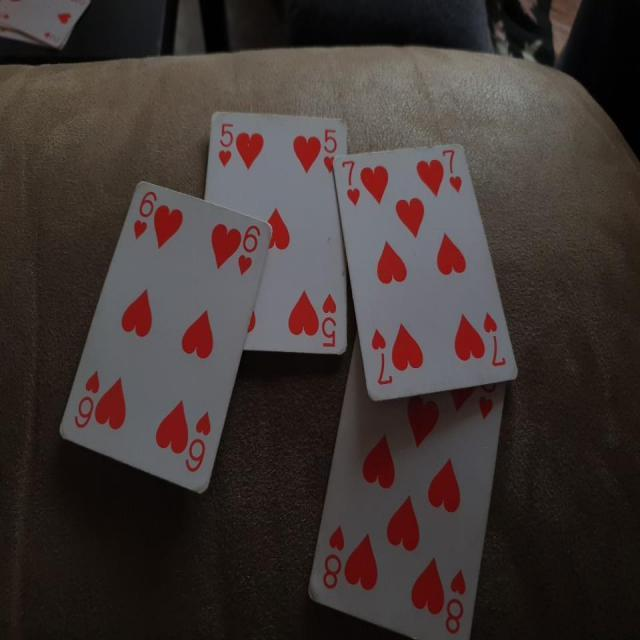5 of hearts: (206, 103, 356, 368)
6 of hearts: (52, 180, 270, 502)
7 of hearts: (334, 138, 523, 414)
8 of hearts: (298, 337, 514, 637)
